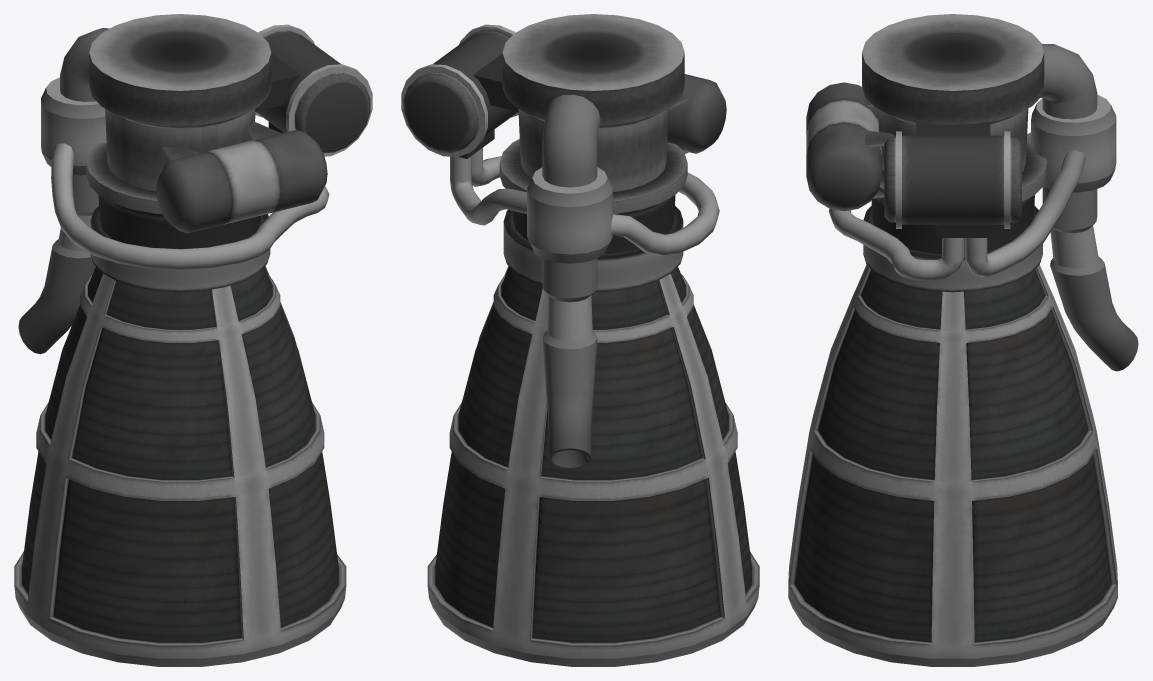
3 renders of one model, left to right at view 1: azimuth 30°, elevation 25°; view 2: azimuth 150°, elevation 25°; view 3: azimuth 270°, elevation 25°, orthographic.
Parts seen in each view (by area): view 1: pCylinder34, LR89, MountingBracket1, Turbine, Pipe2, ExhaustPipe, ExhaustRing, pCube81; view 2: pCylinder34, LR89, ExhaustPipe, Turbine, ExhaustRing, Pipe2, MountingBracket1, Pipe1, pCube81; view 3: pCylinder34, LR89, Turbine, ExhaustPipe, MountingBracket1, ExhaustRing, Pipe1, Pipe2, pCube81, PipeOutput.
Boxes of the visible parts, bbox=[...] form: pCylinder34: bbox=[14, 266, 346, 666]; LR89: bbox=[86, 14, 271, 292]; MountingBracket1: bbox=[156, 121, 327, 233]; Turbine: bbox=[255, 24, 372, 156]; Pipe2: bbox=[51, 143, 329, 269]; ExhaustPipe: bbox=[18, 28, 109, 354]; ExhaustRing: bbox=[41, 77, 106, 175]; pCube81: bbox=[255, 53, 300, 111]; pCylinder34: bbox=[427, 266, 759, 666]; LR89: bbox=[499, 14, 687, 292]; ExhaustPipe: bbox=[542, 94, 600, 468]; Turbine: bbox=[401, 24, 518, 156]; ExhaustRing: bbox=[527, 167, 612, 263]; Pipe2: bbox=[471, 148, 719, 255]; MountingBracket1: bbox=[667, 74, 726, 153]; Pipe1: bbox=[450, 156, 526, 225]; pCube81: bbox=[473, 53, 518, 111]; pCylinder34: bbox=[788, 264, 1117, 666]; LR89: bbox=[862, 14, 1046, 292]; Turbine: bbox=[884, 131, 1021, 228]; ExhaustPipe: bbox=[1040, 43, 1138, 371]; MountingBracket1: bbox=[806, 82, 895, 211]; ExhaustRing: bbox=[1031, 94, 1116, 192]; Pipe1: bbox=[964, 150, 1085, 277]; Pipe2: bbox=[828, 132, 1030, 280]; pCube81: bbox=[916, 121, 990, 135]; PipeOutput: bbox=[936, 224, 991, 237].
Bounding box in the file's own units: 0.7702 × 1.31 × 0.762.
